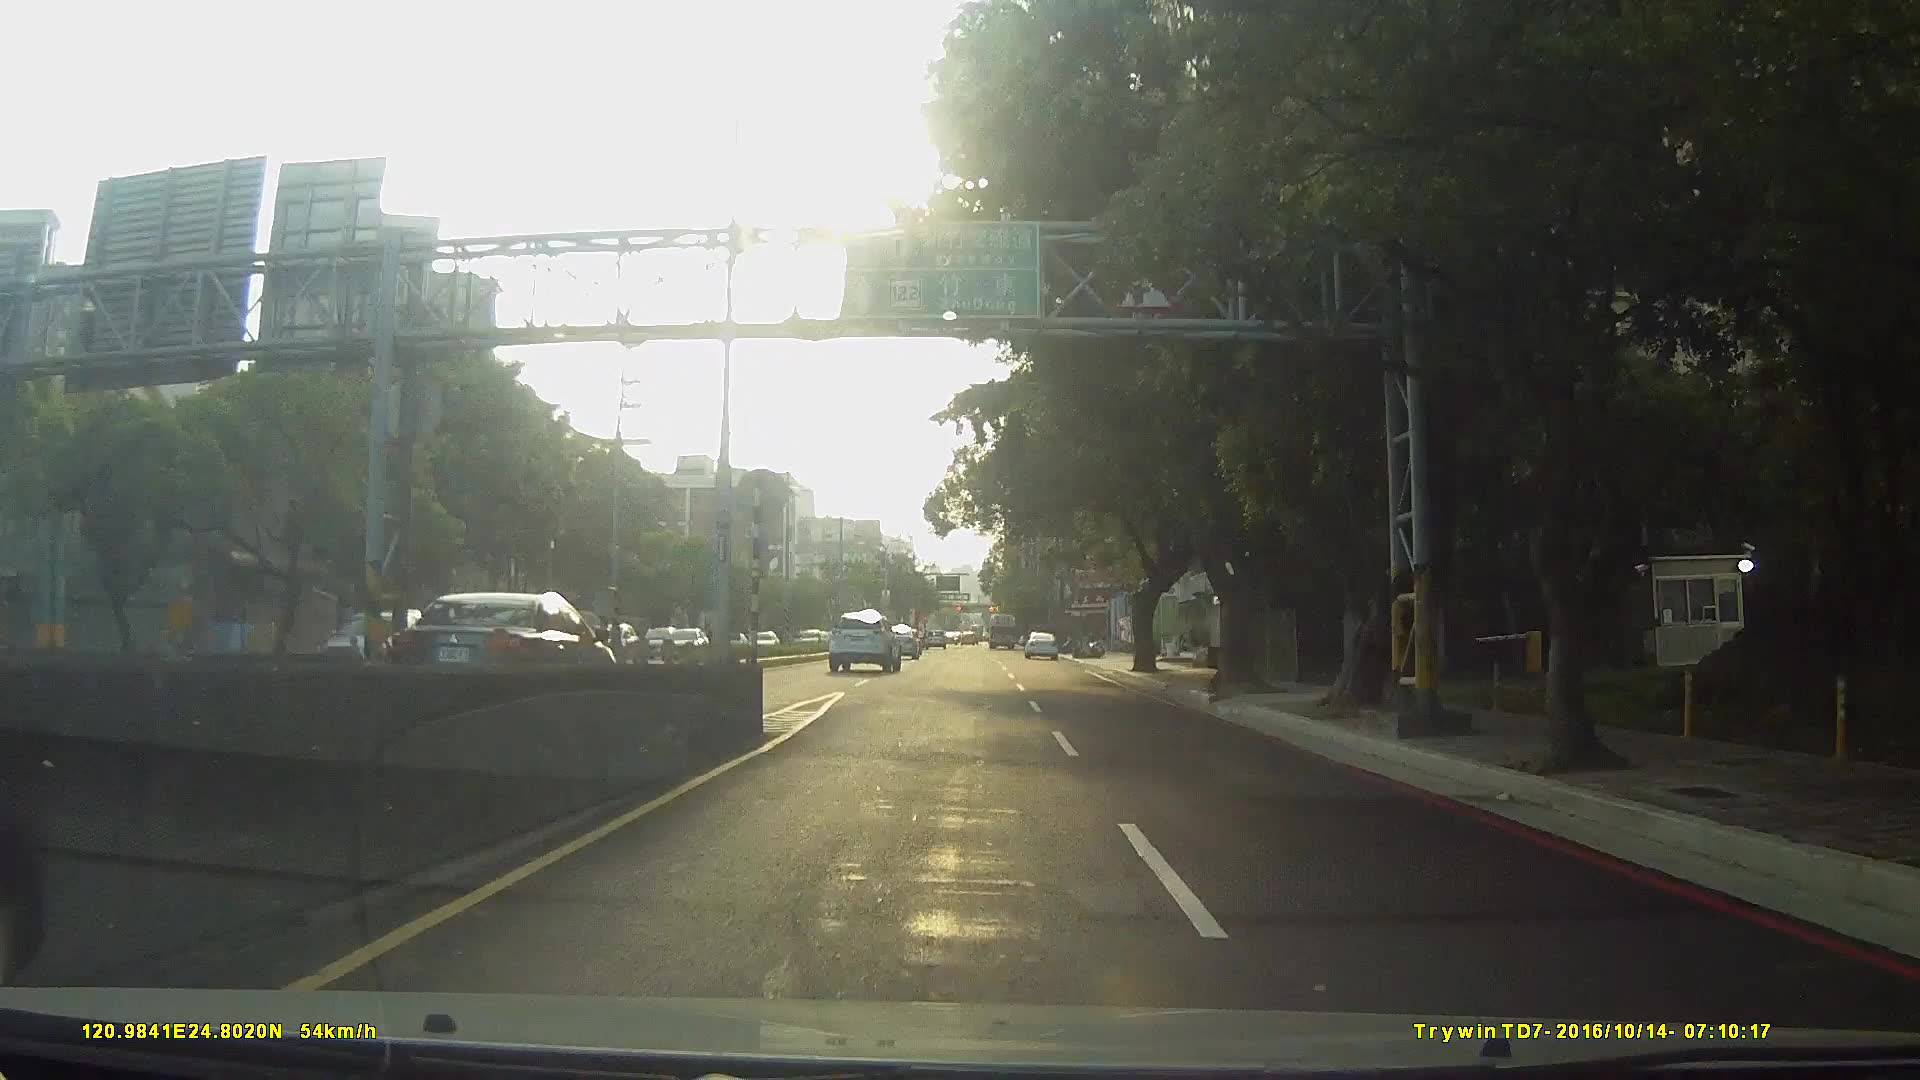vehicle: (388, 588, 618, 698), (825, 608, 901, 674), (880, 625, 920, 659), (986, 611, 1018, 649), (1022, 630, 1059, 659)
